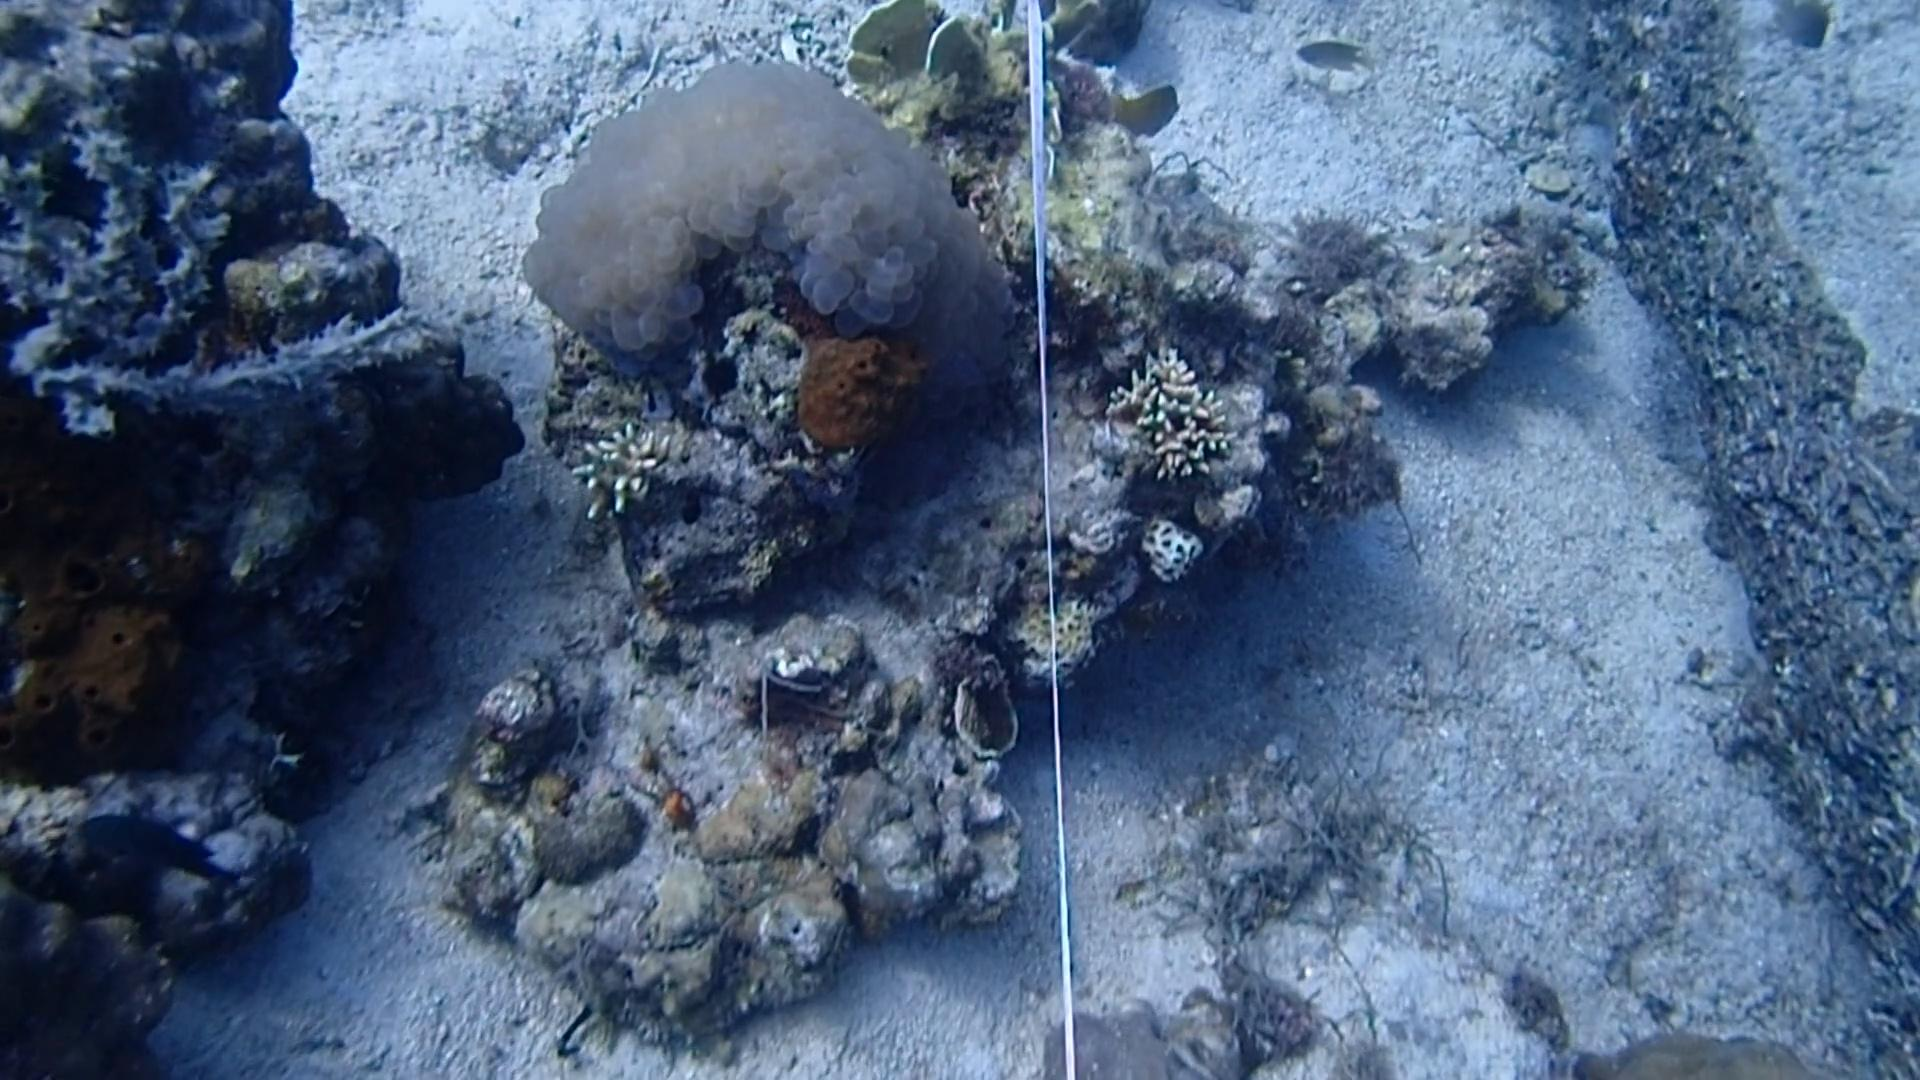Big Dark Blue Fish: (67, 796, 233, 890)
Light Fish: (1291, 29, 1374, 84)
Yellow-Blue Fish: (1112, 82, 1183, 141)
